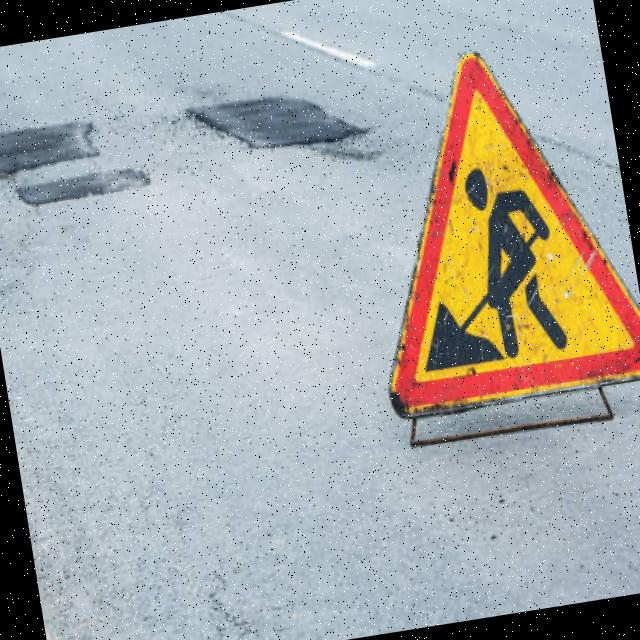road_work: (334, 33, 640, 429)
